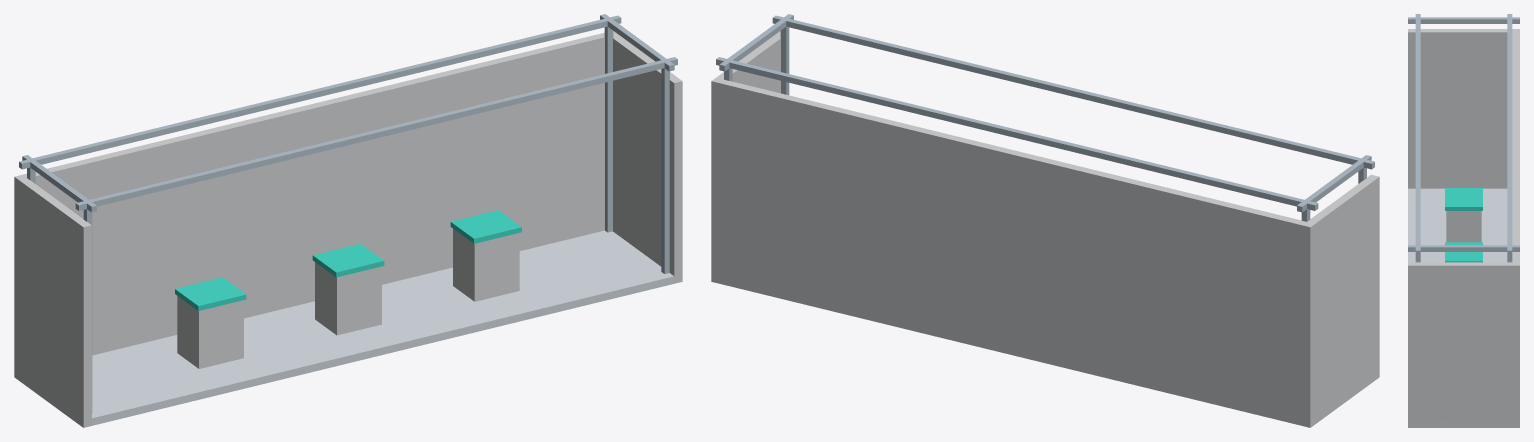
The picture shows the model from 3 angles, left to right: view 1: azimuth 30°, elevation 25°; view 2: azimuth 150°, elevation 25°; view 3: azimuth 270°, elevation 25°; orthographic projection. The views are drawn at different scales.
Parts seen in each view (by area): view 1: Exhibition Booth Concept; view 2: Exhibition Booth Concept; view 3: Exhibition Booth Concept.
Boxes of the visible parts, x1,y1,x2,y2 form: Exhibition Booth Concept: (14,14,682,427); Exhibition Booth Concept: (711,14,1379,427); Exhibition Booth Concept: (1408,14,1519,427).
Bounding box in the file's own units: 10 × 3.49 × 2.
